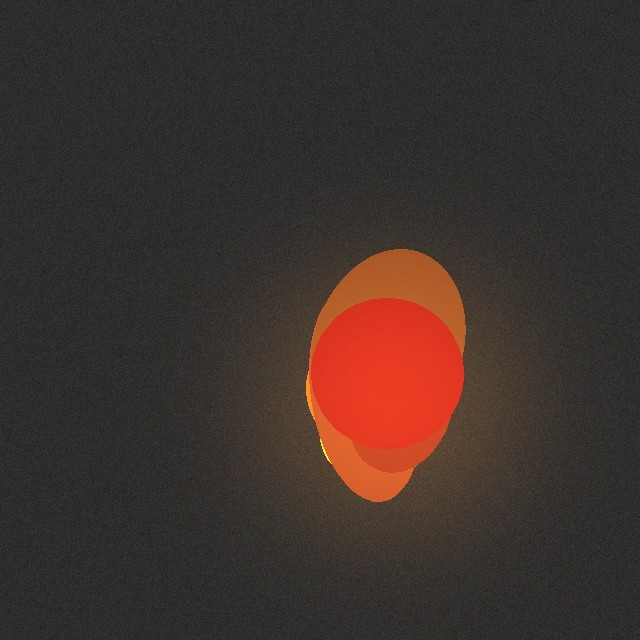fire: (322, 316, 458, 488)
